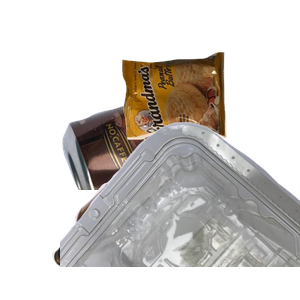glass: (49, 145, 229, 300)
metal: (60, 79, 300, 259)
plastic: (60, 120, 300, 300)
trash: (120, 50, 300, 182)
